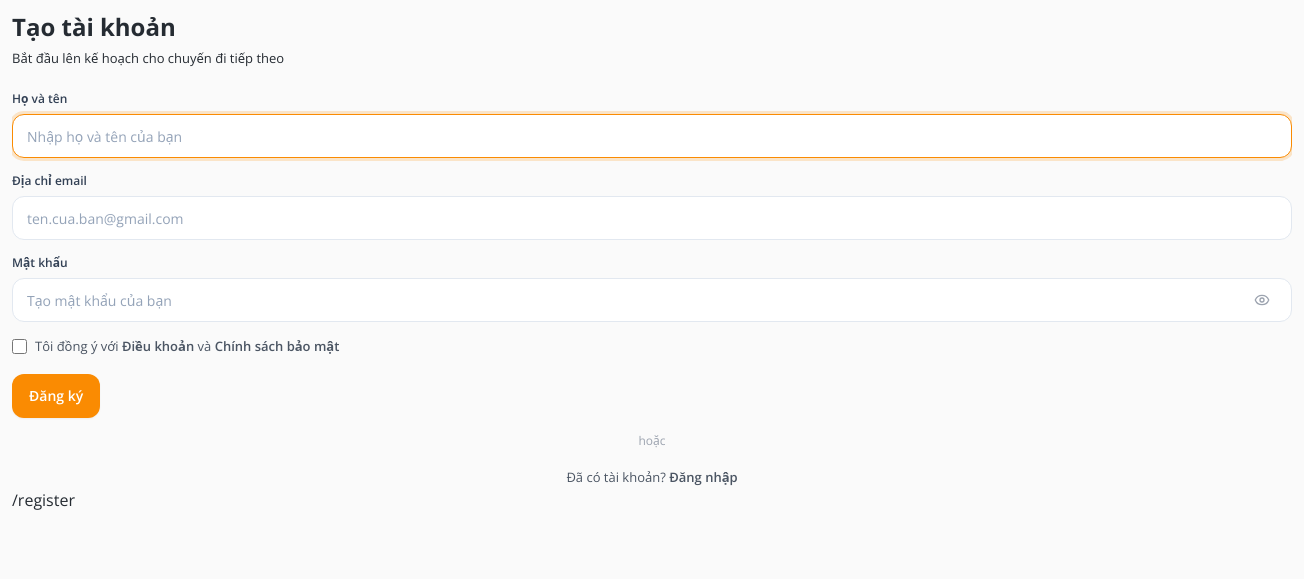
Test: Màn Đăng ký › đăng ký thành công → chuyển sang màn nhập OTP với email vừa đăng ký
The image size is (1304, 579).
In the field labelled "Họ và tên": (652, 136) [12,114,1292,158], type "Nguyễn Văn A"
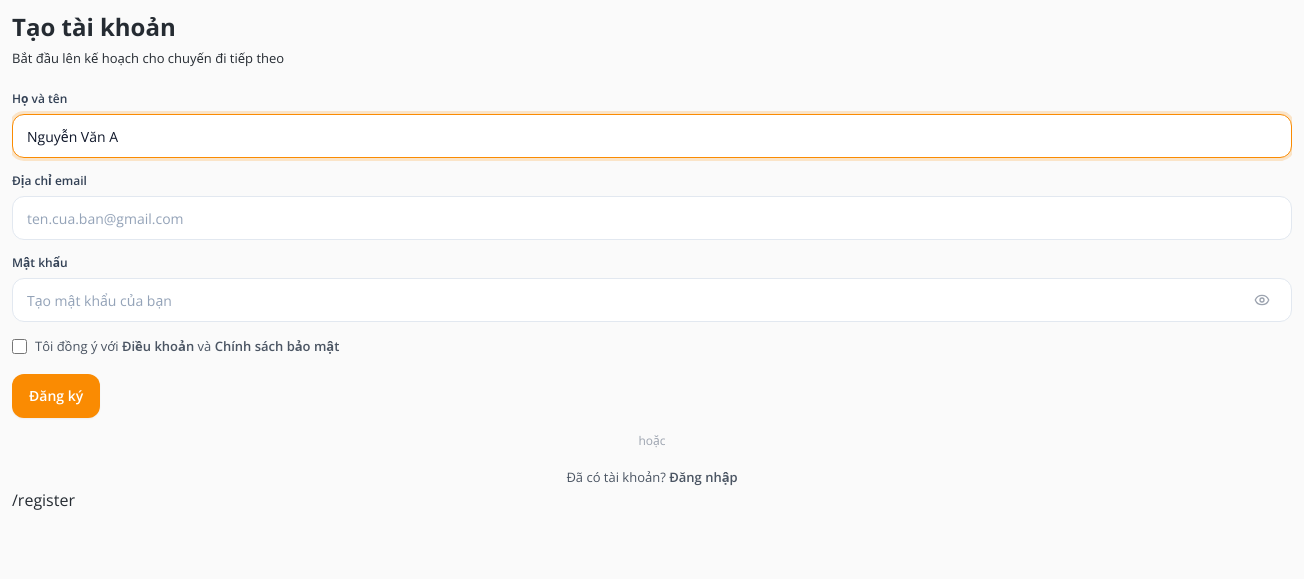
In the field labelled "Địa chỉ email": (652, 218) [12,196,1292,240], type "moi@gmail.com"
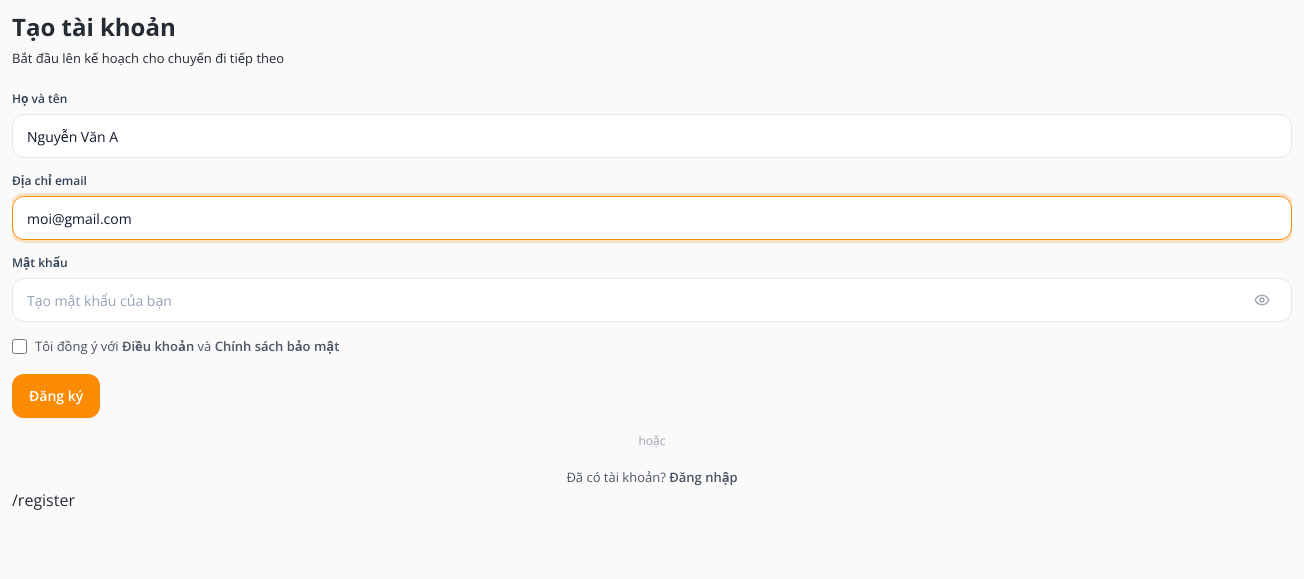
In the password field labelled "Mật khẩu": (652, 300) [12,278,1292,322], type "MatKhau1"
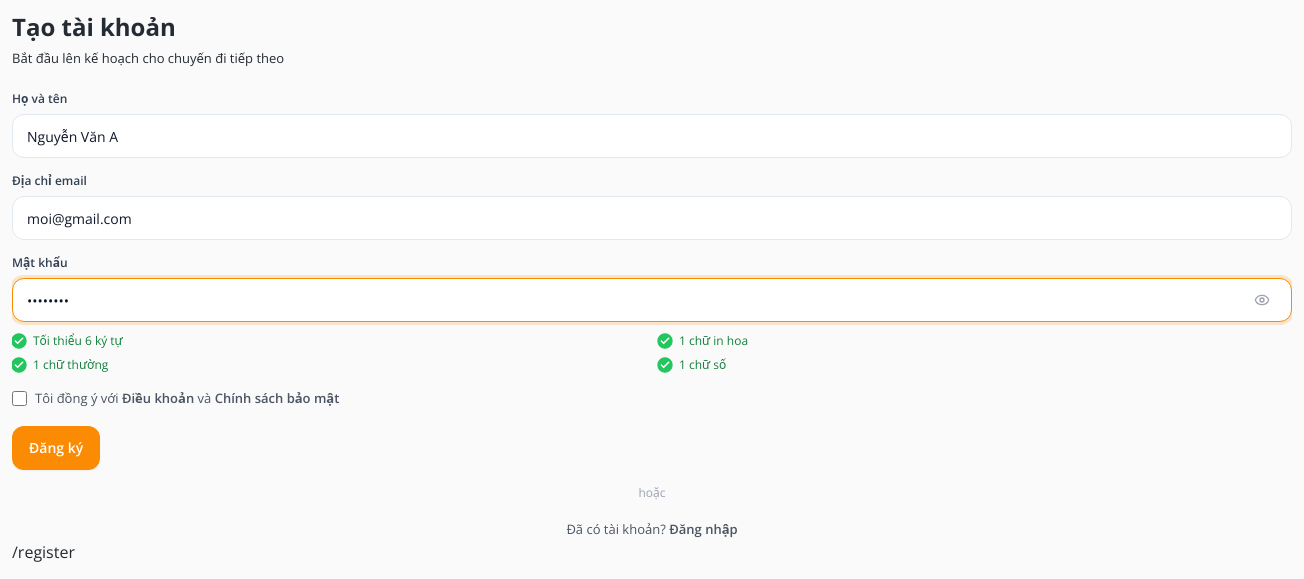
Click the checkbox: (20, 399) [12,391,27,406]
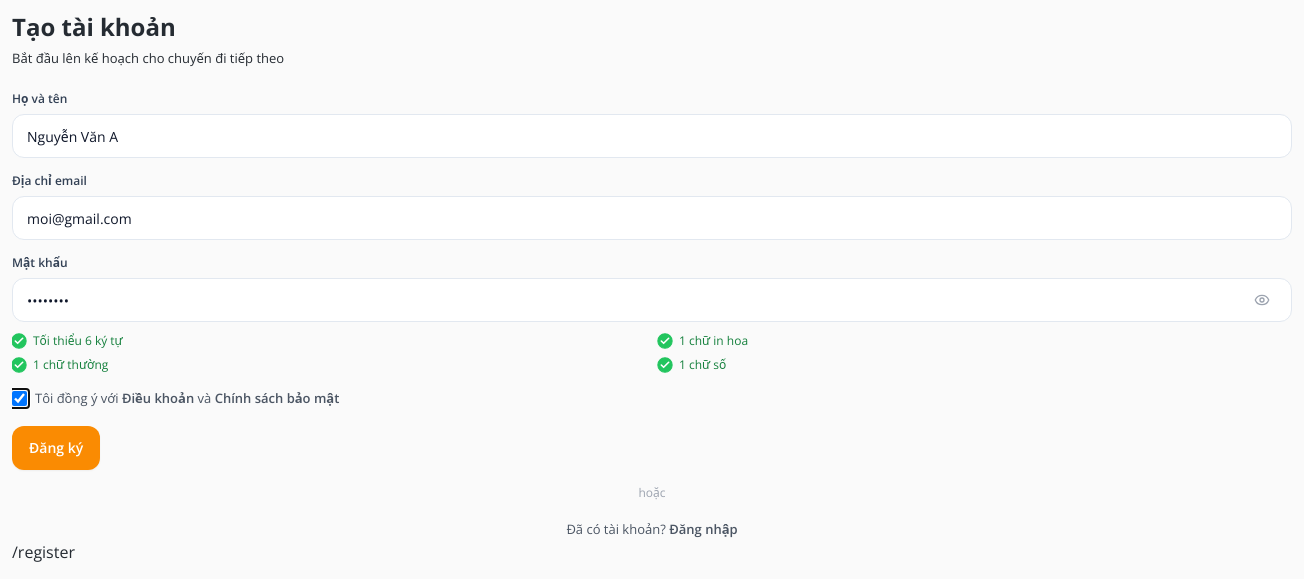
Click the button "Đăng ký": (56, 448) [12,426,100,470]
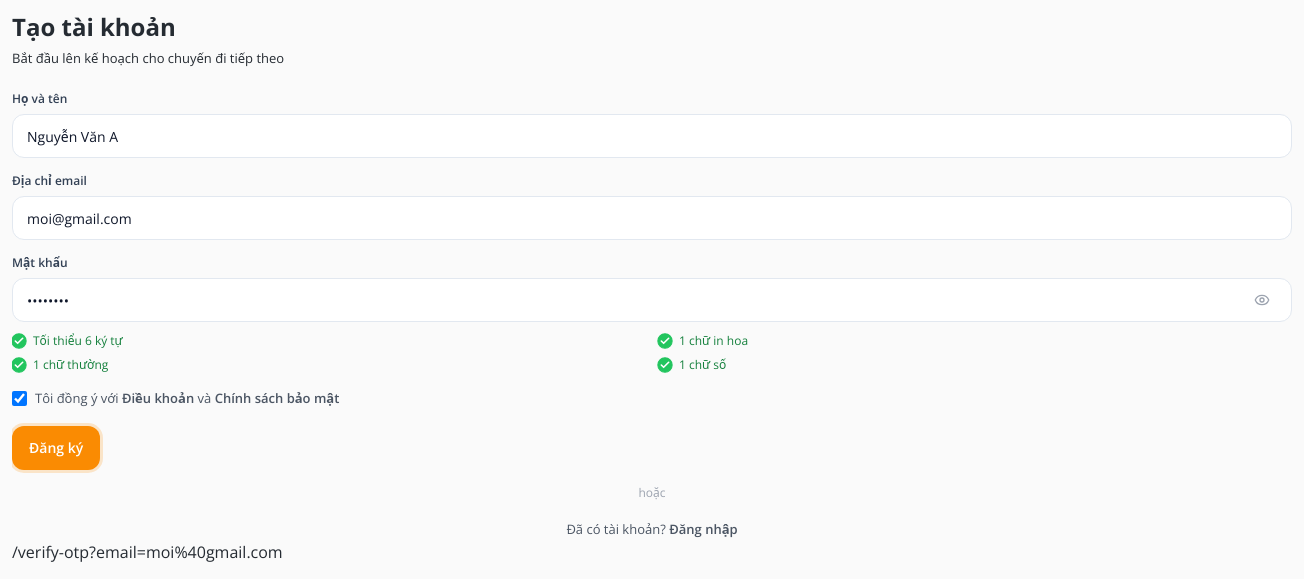
Expected: the text with test id "location" reads "/verify-otp?email=moi%40gmail.com", [12,541,283,563]
